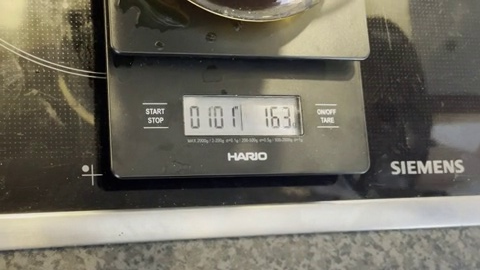display: (182, 94, 299, 134)
